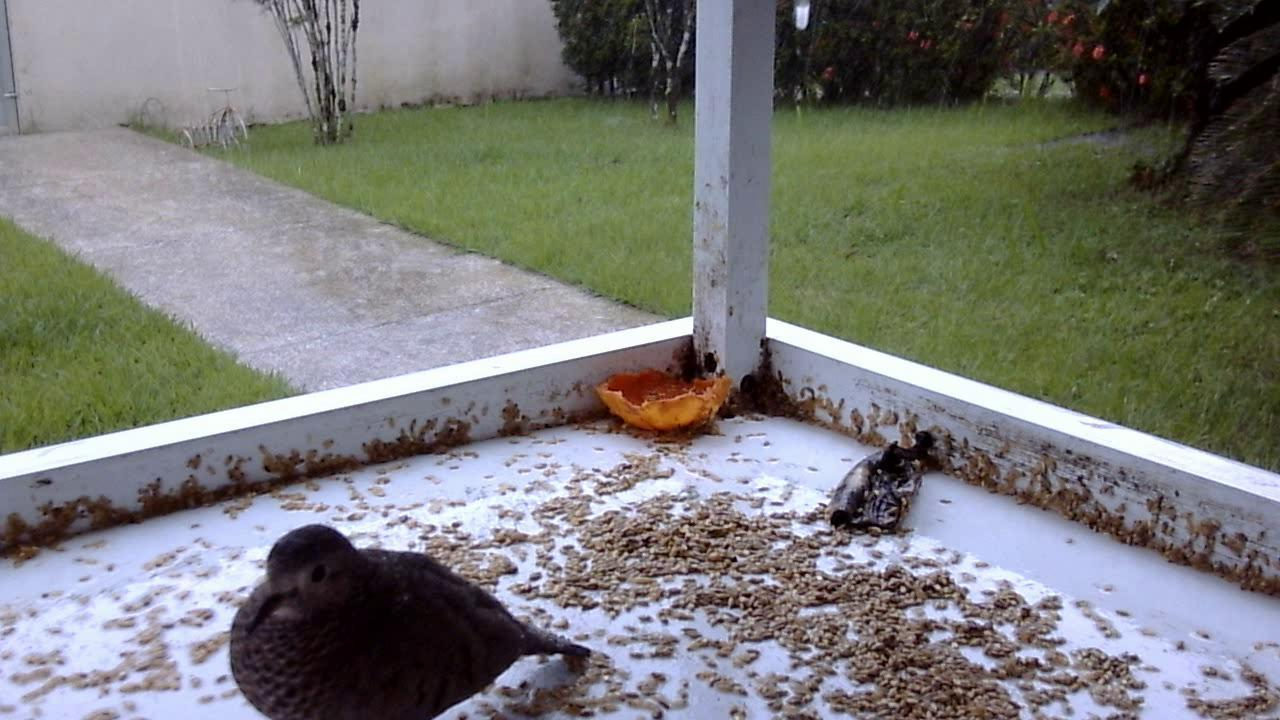rolinha: (217, 515, 608, 720)
